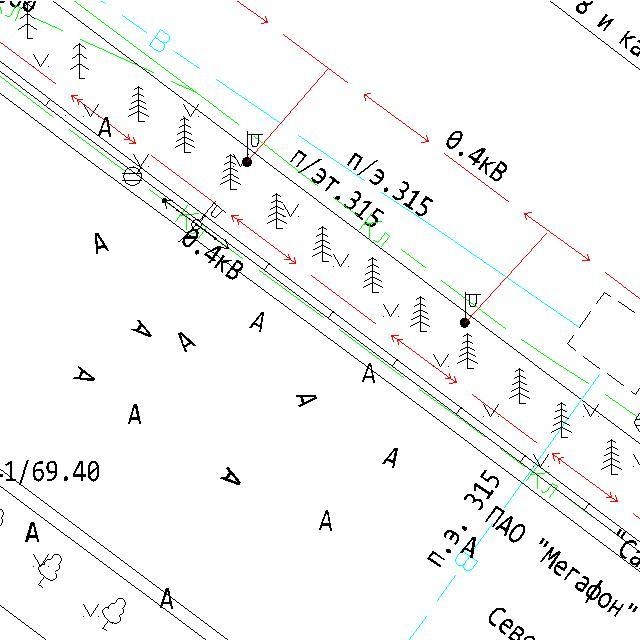asphalt: (90, 229, 112, 256), (129, 318, 155, 340), (176, 328, 197, 354), (218, 465, 242, 487), (70, 364, 96, 383), (458, 534, 477, 560), (380, 446, 400, 470), (360, 360, 378, 386), (22, 520, 41, 544), (125, 402, 143, 426), (294, 392, 319, 409), (158, 586, 175, 611), (317, 508, 333, 533), (247, 311, 265, 333), (96, 115, 113, 138)
tree: (36, 552, 64, 590), (218, 152, 244, 192), (548, 401, 574, 440), (599, 437, 624, 477), (100, 596, 127, 632), (127, 84, 151, 124), (361, 255, 385, 295), (408, 295, 432, 334), (68, 42, 91, 82), (508, 366, 531, 406), (311, 225, 334, 264), (456, 332, 479, 371), (266, 192, 289, 230), (174, 116, 196, 154), (17, 3, 39, 40)
well: (120, 163, 144, 188)
